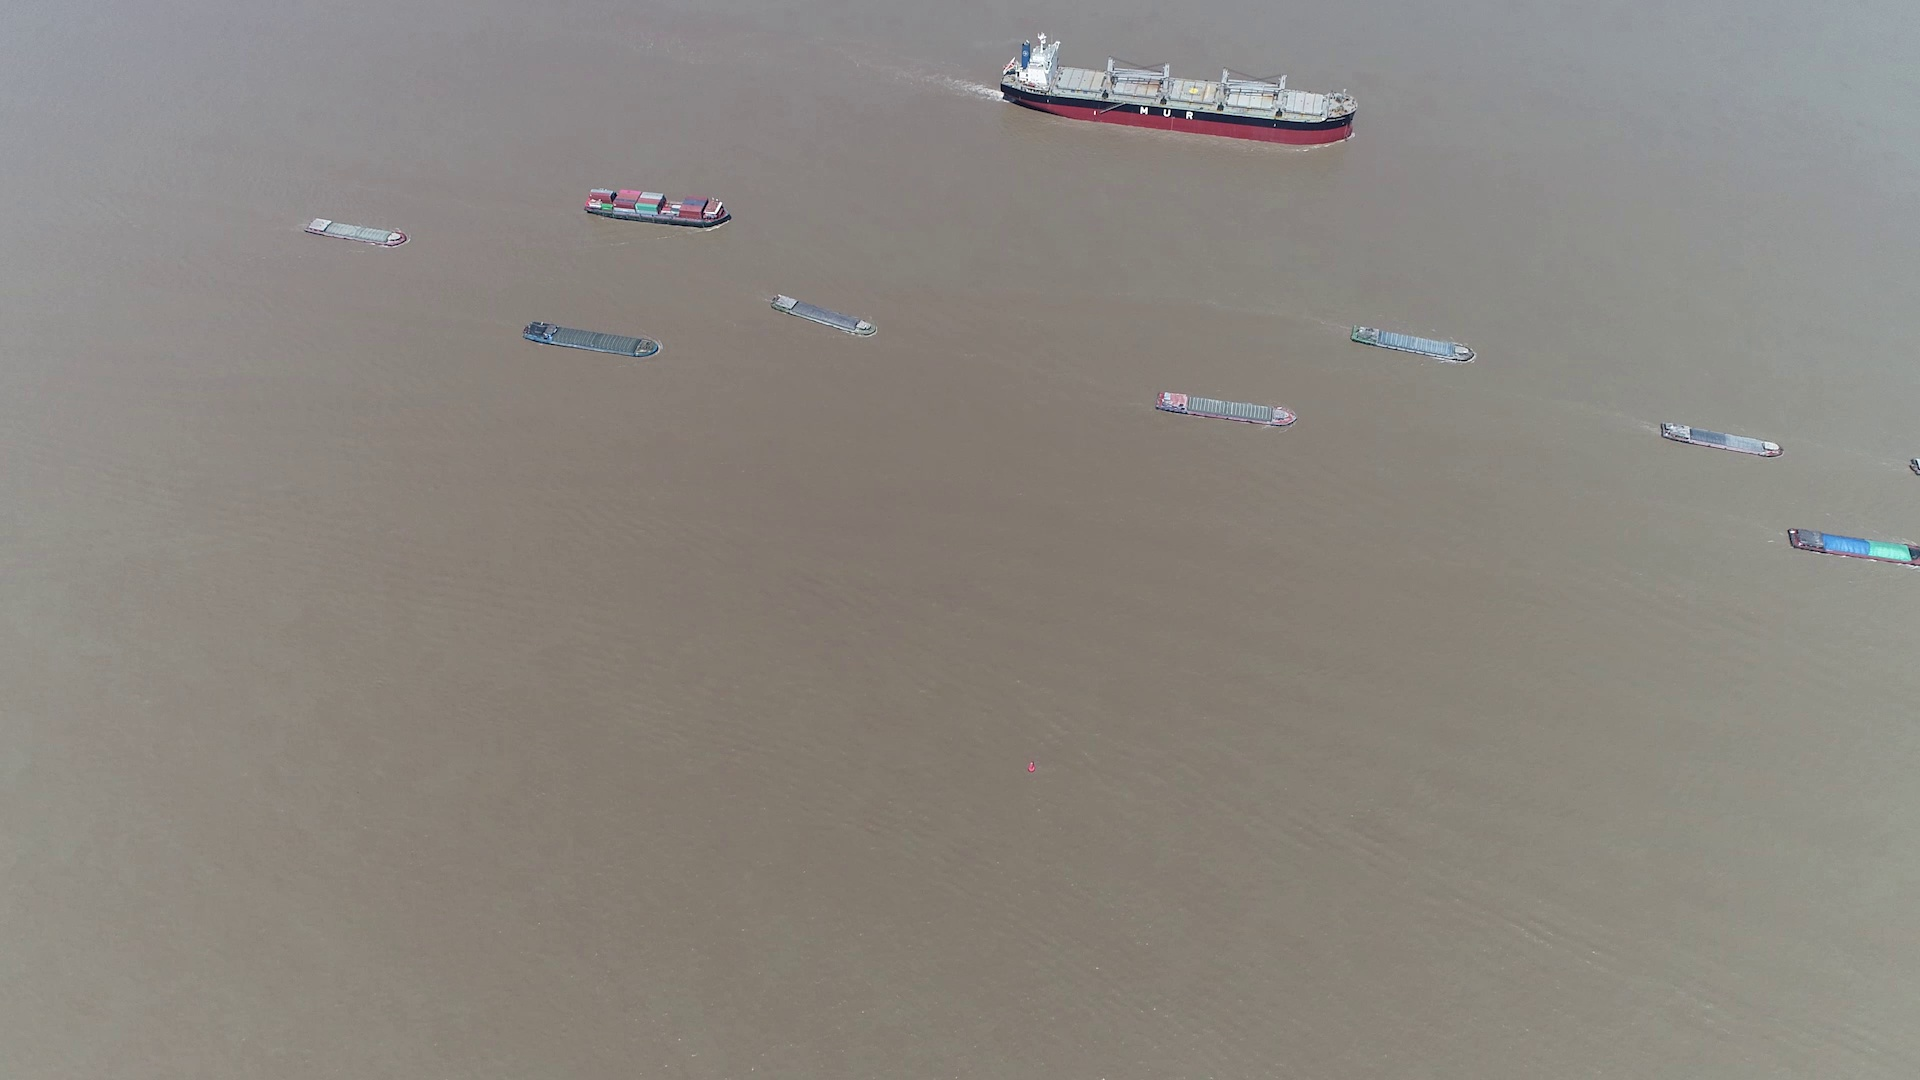ship: (1001, 38, 1356, 141), (585, 187, 733, 228), (1156, 390, 1298, 429), (1350, 323, 1476, 365), (1788, 526, 1920, 566), (521, 323, 661, 359), (770, 294, 878, 339), (1659, 419, 1782, 458), (302, 218, 407, 248)
